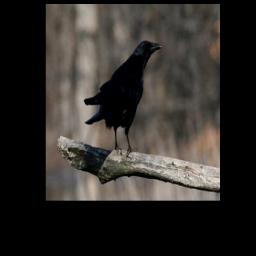Crow: (84, 38, 163, 159)
